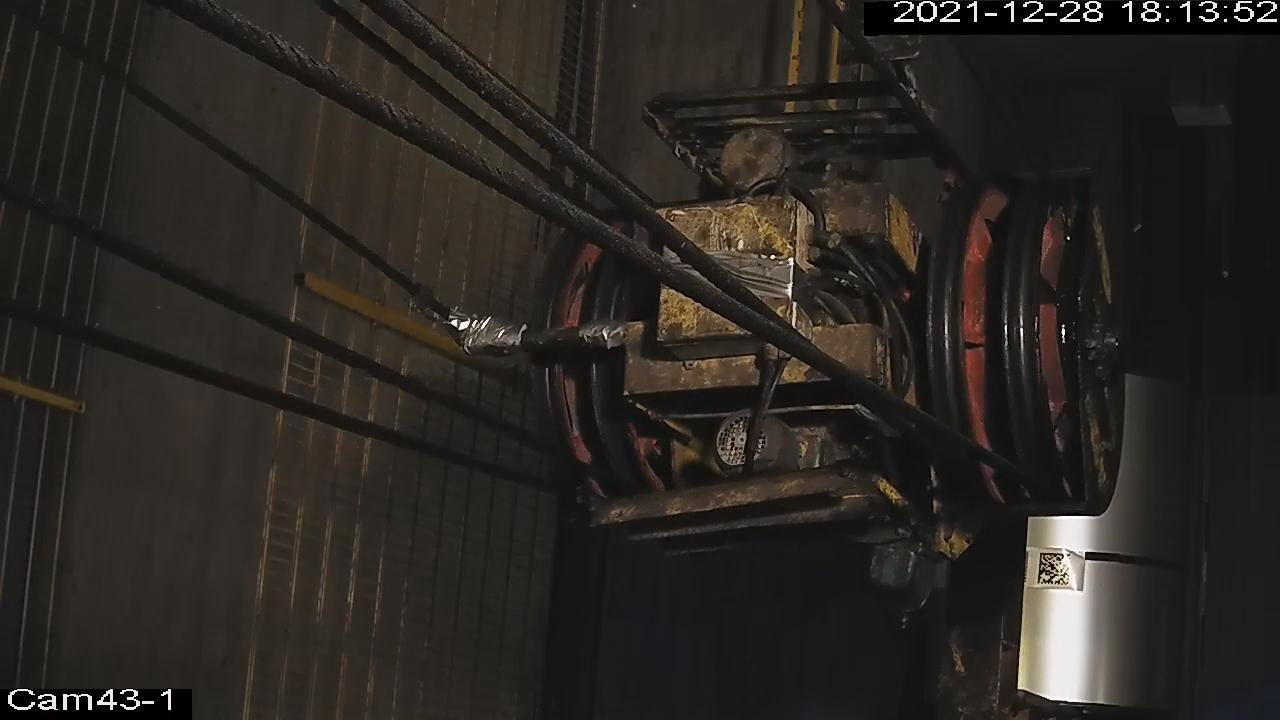data matrix: (1036, 551, 1075, 588)
